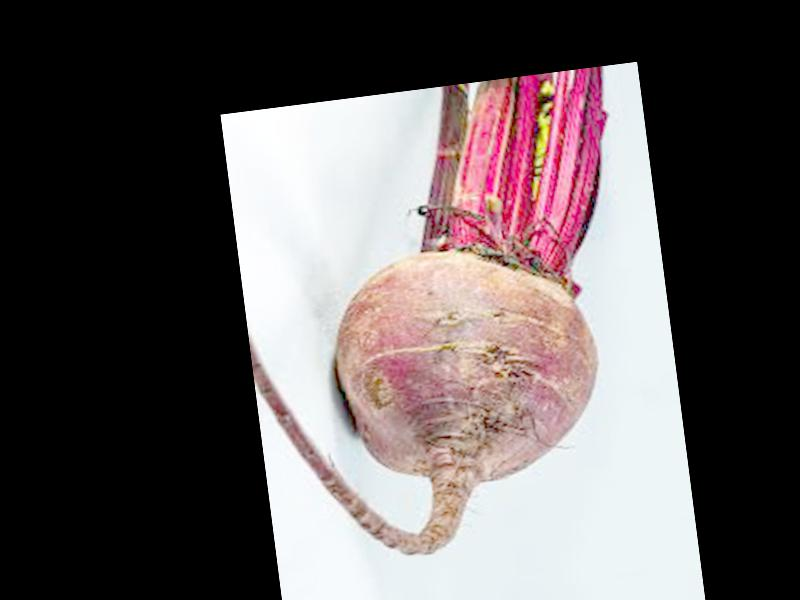Beet: (224, 65, 663, 572)
